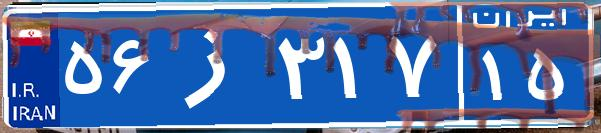1: (330, 28, 385, 110), (475, 38, 525, 113)
3: (273, 28, 330, 110)
5: (57, 26, 110, 107), (525, 38, 570, 115)
6: (110, 28, 158, 105)
7: (385, 28, 445, 110)
ز: (158, 15, 273, 115)
